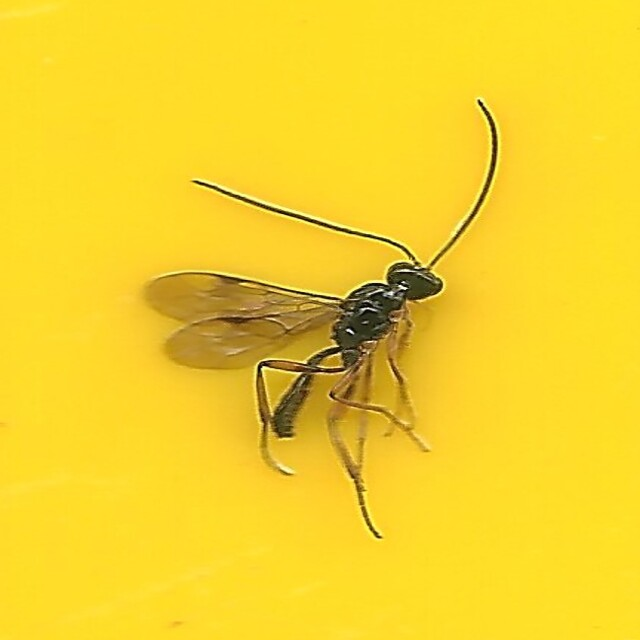Hymenoptera: (148, 101, 492, 539)
